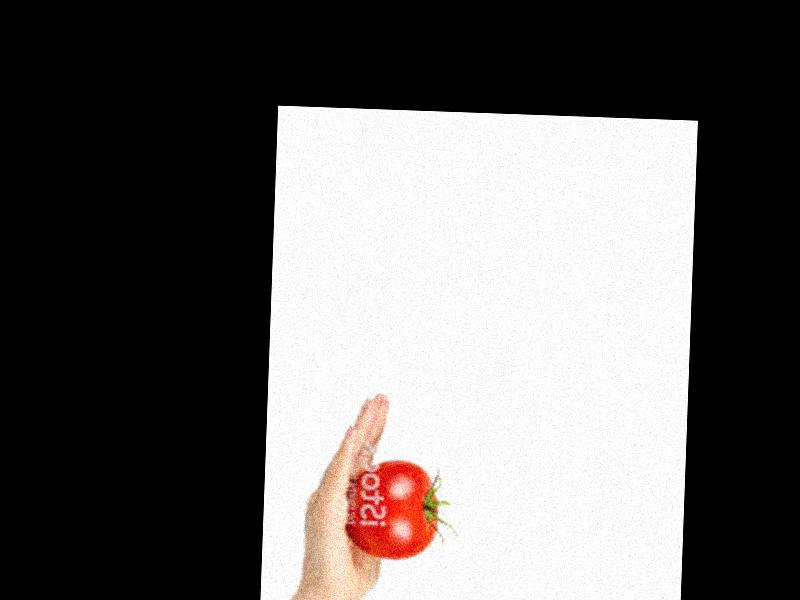Tomato: (346, 460, 441, 561)
